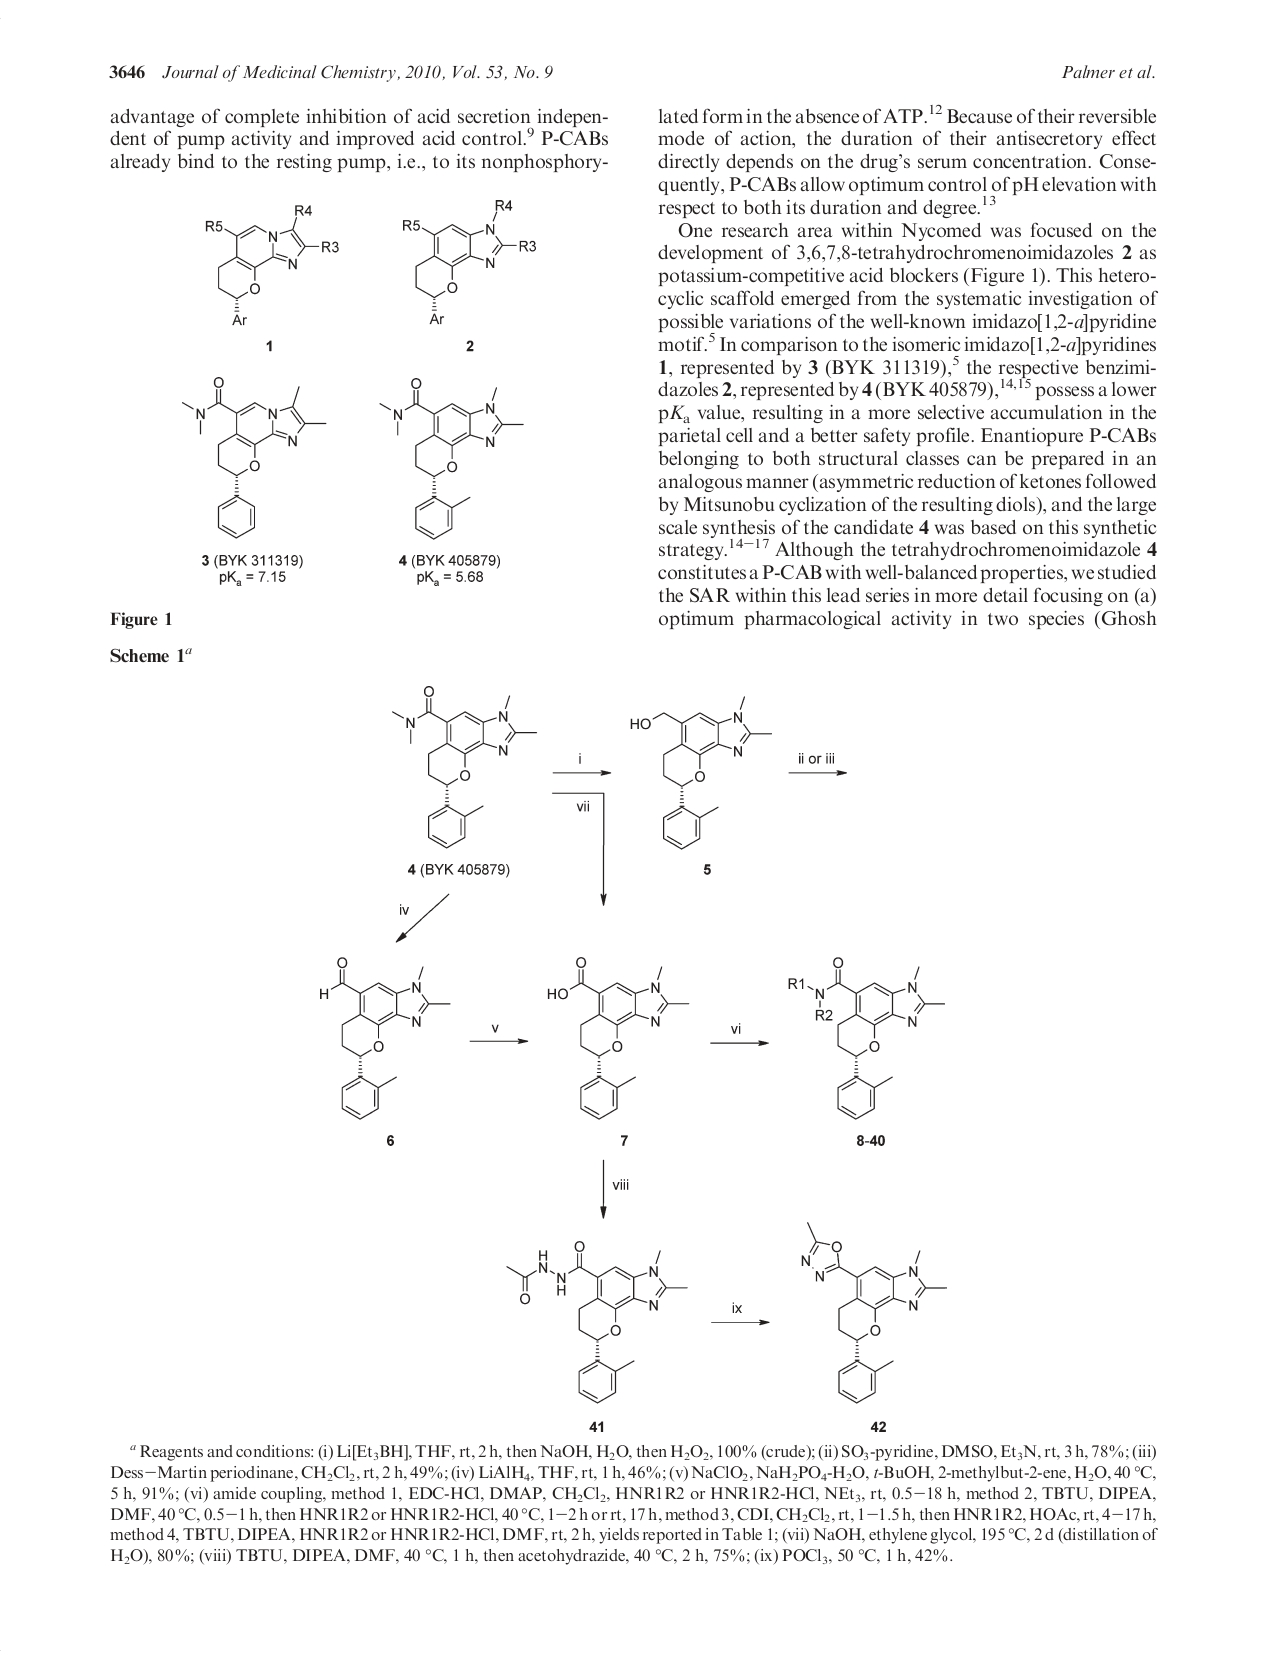exist_molecular: (507, 1227, 690, 1404), (797, 1223, 951, 1408), (789, 954, 948, 1126), (176, 374, 332, 539), (544, 951, 692, 1125), (390, 682, 541, 848), (626, 686, 781, 848), (307, 956, 455, 1125), (374, 375, 523, 539), (199, 193, 348, 328), (398, 193, 544, 326)
